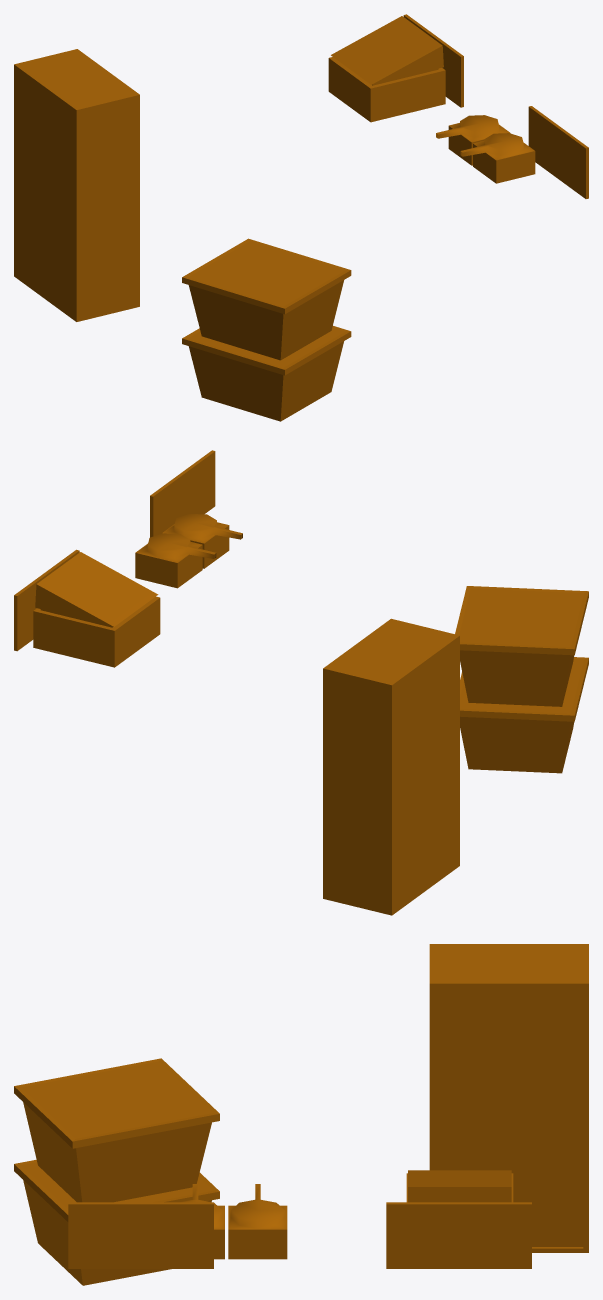
The model's file is waffleWhiz.fbx.
3 renders of one model, top to bottom at view 1: azimuth 30°, elevation 25°; view 2: azimuth 150°, elevation 25°; view 3: azimuth 270°, elevation 25°, orthographic. The views are drawn at different scales.
Visible parts, largest first — view 1: fridge, boxes, cashier, menus, wafflethingies; view 2: fridge, boxes, cashier, wafflethingies, menus; view 3: fridge, boxes, menus, wafflethingies, cashier.
Boxes of the visible parts, <box> form: fridge: <box>14,49,139,321</box>; boxes: <box>182,238,351,421</box>; cashier: <box>328,16,445,122</box>; menus: <box>403,14,588,198</box>; wafflethingies: <box>436,115,535,183</box>; fridge: <box>323,618,459,915</box>; boxes: <box>455,586,588,773</box>; cashier: <box>33,552,160,667</box>; wafflethingies: <box>135,514,242,588</box>; menus: <box>14,450,215,651</box>; fridge: <box>429,944,588,1252</box>; boxes: <box>14,1058,219,1285</box>; menus: <box>68,1202,531,1268</box>; wafflethingies: <box>180,1184,287,1259</box>; cashier: <box>406,1170,513,1202</box>.
Size of the model in its own units: 329 by 180 by 347.
